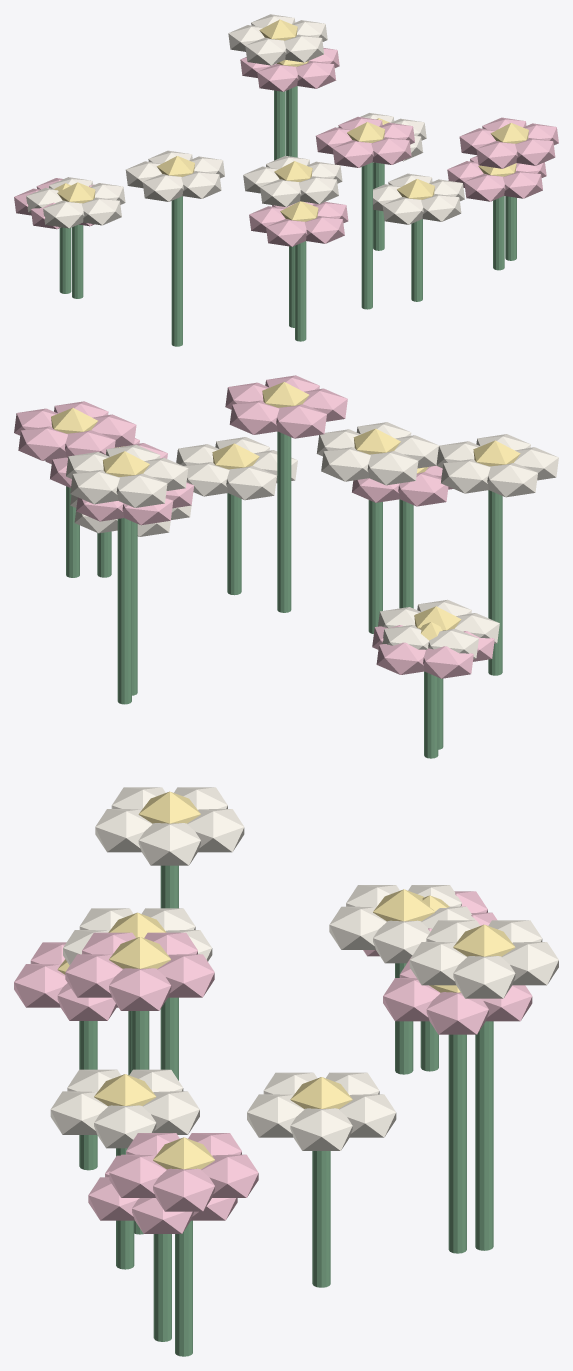
Rendered from flower_patch.glb.
The picture shows the model from 3 angles, top to bottom: view 1: azimuth 30°, elevation 25°; view 2: azimuth 150°, elevation 25°; view 3: azimuth 270°, elevation 25°; orthographic projection. The views are drawn at different scales.
Parts seen in each view (by area): view 1: flower_patch_042, flower_patch_077, flower_patch_063, flower_patch_056, flower_patch_012, flower_patch_040, flower_patch_054, flower_patch_033, flower_patch_047, flower_patch_061, flower_patch_005, flower_patch_082 (+45 smaller); view 2: flower_patch_028, flower_patch_077, flower_patch_042, flower_patch_000, flower_patch_063, flower_patch_056, flower_patch_004, flower_patch_081, flower_patch_060, flower_patch_032, flower_patch_046, flower_patch_080 (+48 smaller); view 3: flower_patch_028, flower_patch_049, flower_patch_014, flower_patch_035, flower_patch_037, flower_patch_030, flower_patch_079, flower_patch_044, flower_patch_016, flower_patch_042, flower_patch_051, flower_patch_007 (+50 smaller).
Boxes of the visible parts, x1,y1,x2,y2 form: flower_patch_042: (171, 196, 182, 346); flower_patch_077: (361, 162, 372, 309); flower_patch_063: (295, 241, 306, 341); flower_patch_056: (411, 219, 422, 301); flower_patch_012: (464, 173, 505, 201); flower_patch_040: (476, 141, 517, 168); flower_patch_054: (257, 64, 298, 91); flower_patch_033: (245, 37, 286, 65); flower_patch_047: (142, 174, 183, 201); flower_patch_061: (382, 197, 423, 224); flower_patch_005: (260, 179, 301, 206); flower_patch_082: (332, 140, 373, 167); flower_patch_028: (117, 518, 131, 704); flower_patch_077: (277, 431, 291, 612); flower_patch_042: (488, 490, 502, 675); flower_patch_000: (368, 500, 382, 633); flower_patch_063: (399, 499, 413, 608); flower_patch_056: (227, 493, 241, 595); flower_patch_004: (367, 451, 418, 485); flower_patch_081: (276, 404, 326, 438); flower_patch_060: (226, 465, 276, 500); flower_patch_032: (116, 473, 167, 507); flower_patch_046: (487, 463, 537, 497); flower_patch_080: (229, 400, 279, 434); flower_patch_028: (475, 1021, 493, 1250); flower_patch_049: (448, 1034, 466, 1253); flower_patch_014: (312, 1151, 330, 1287); flower_patch_035: (175, 1220, 192, 1356); flower_patch_037: (153, 1168, 214, 1211); flower_patch_030: (453, 956, 515, 998); flower_patch_079: (109, 968, 171, 1010); flower_patch_044: (138, 823, 200, 865); flower_patch_016: (290, 1108, 352, 1150); flower_patch_042: (160, 865, 178, 1080); flower_patch_051: (426, 992, 488, 1034); flower_patch_007: (153, 1234, 171, 1341).
Size of the model in its own units: 1.37 by 0.5833 by 0.8934.
